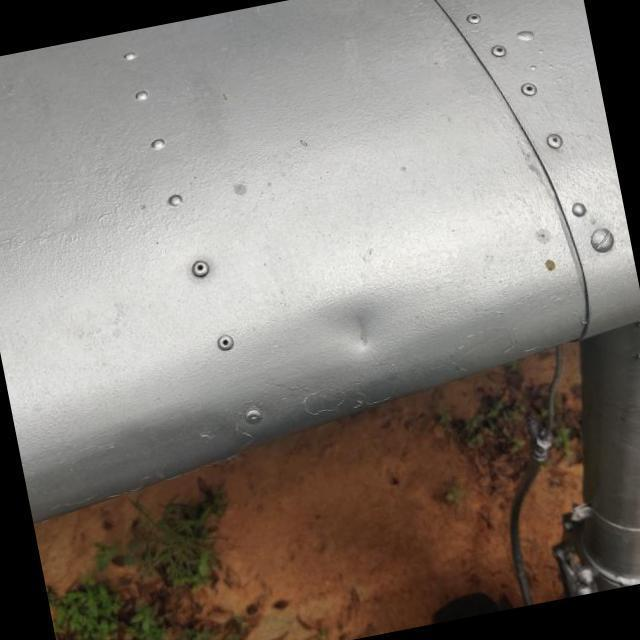Dent: (300, 264, 422, 384)
